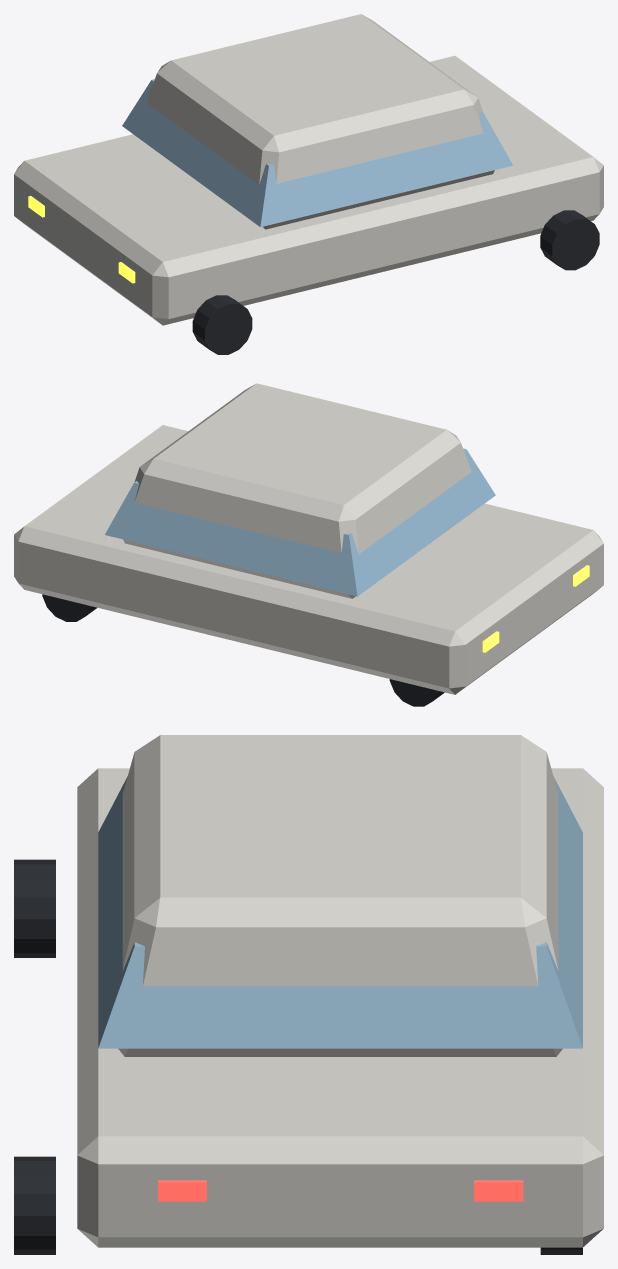
Rendered from car_long_white.glb.
The picture shows the model from 3 angles, top to bottom: view 1: azimuth 30°, elevation 25°; view 2: azimuth 150°, elevation 25°; view 3: azimuth 270°, elevation 25°; orthographic projection. The views are drawn at different scales.
Parts seen in each view (by area): view 1: car_long_white_mesh; view 2: car_long_white_mesh; view 3: car_long_white_mesh.
Boxes of the visible parts, x1,y1,x2,y2 form: car_long_white_mesh: (14, 14, 603, 354); car_long_white_mesh: (14, 383, 603, 706); car_long_white_mesh: (14, 735, 603, 1254).
Size of the model in its own units: 2.63 by 0.92 by 1.68.
